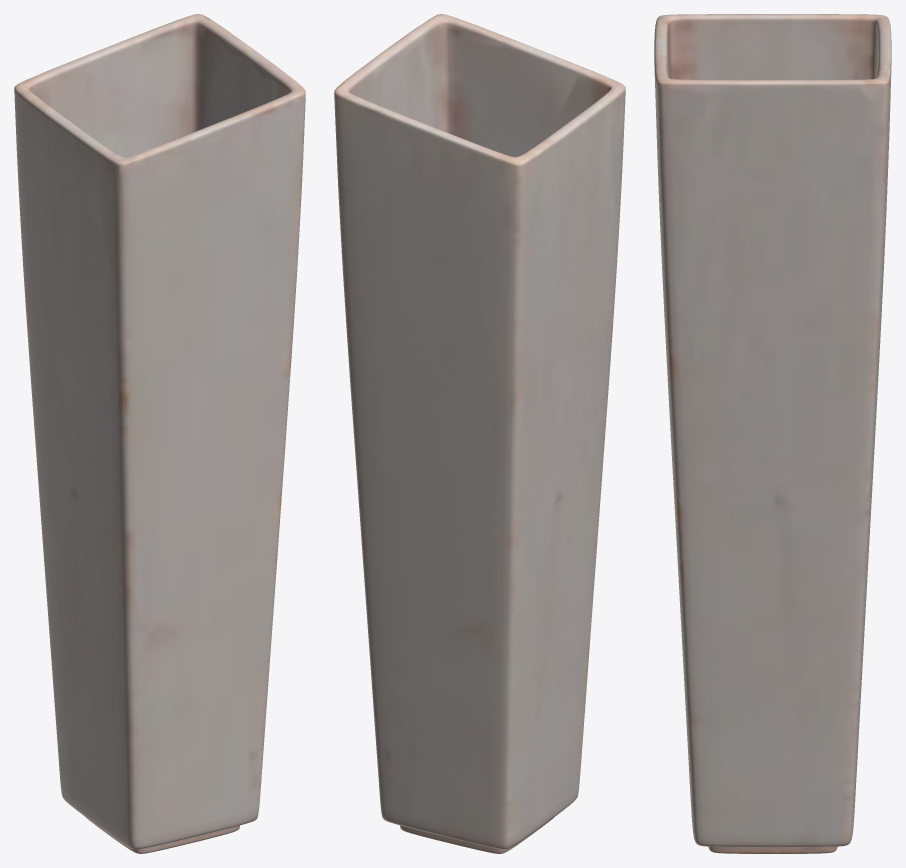
File: vaso-alto.glb
3 views of the same model, side by side, from view 1: azimuth 30°, elevation 25°; view 2: azimuth 150°, elevation 25°; view 3: azimuth 270°, elevation 25° (orthographic). The views are drawn at different scales.
Visible parts, largest first — view 1: ceramic_vase_03; view 2: ceramic_vase_03; view 3: ceramic_vase_03.
Boxes of the visible parts, x1,y1,x2,y2 form: ceramic_vase_03: (14,14,305,853); ceramic_vase_03: (334,14,625,853); ceramic_vase_03: (654,14,891,853).
Bounding box in the file's own units: 0.1122 × 0.4143 × 0.1122.
1 material, 1 textured.
